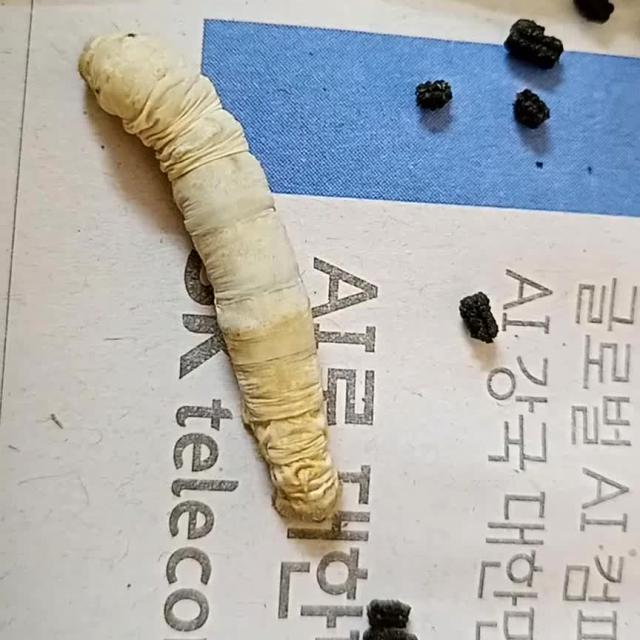Grasserie: (68, 24, 357, 544)
